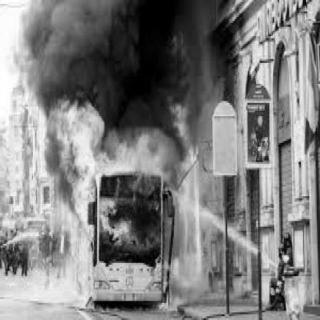Fire: (191, 142, 207, 276)
